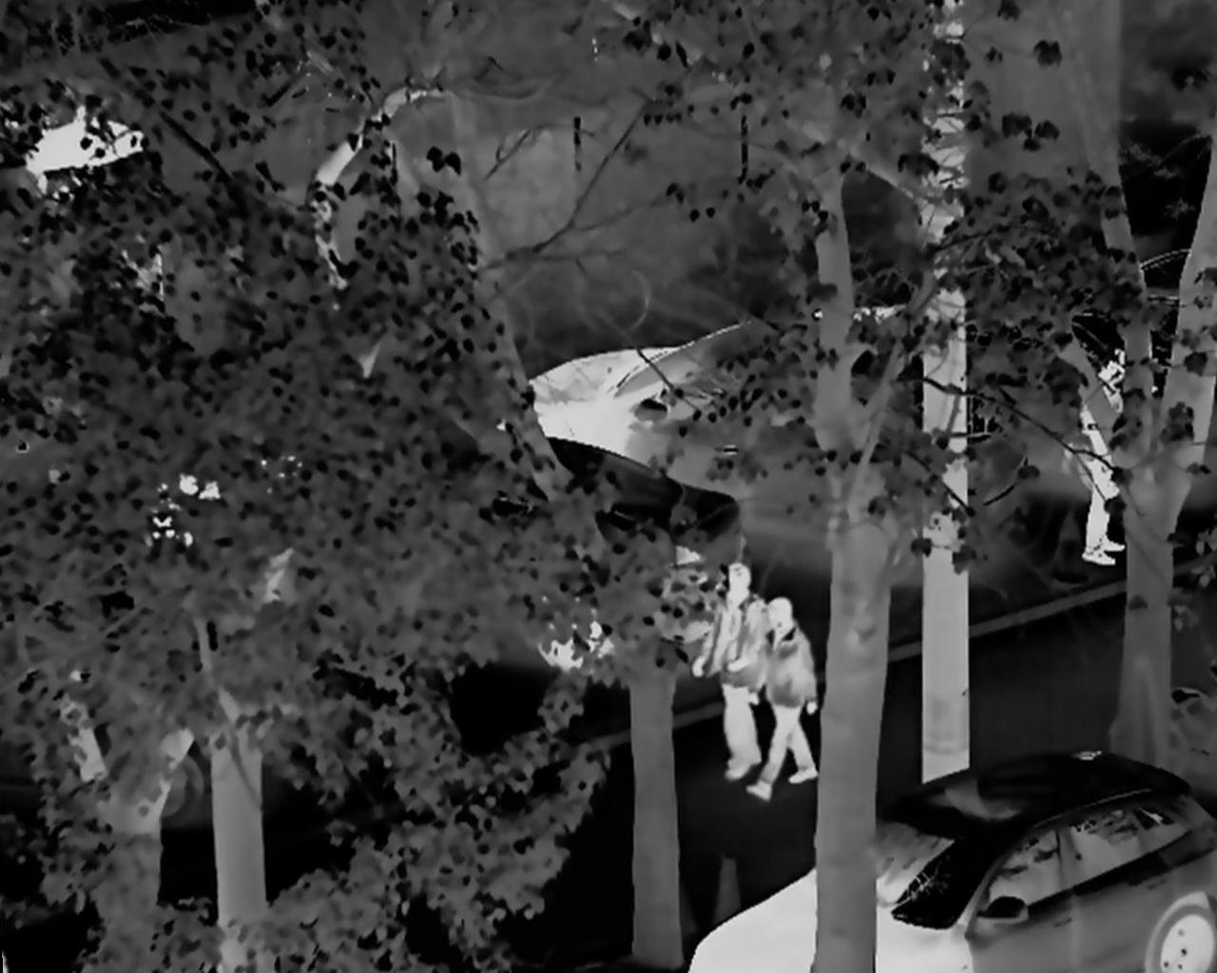person: (690, 556, 772, 788), (748, 584, 829, 801), (1076, 356, 1137, 576)
